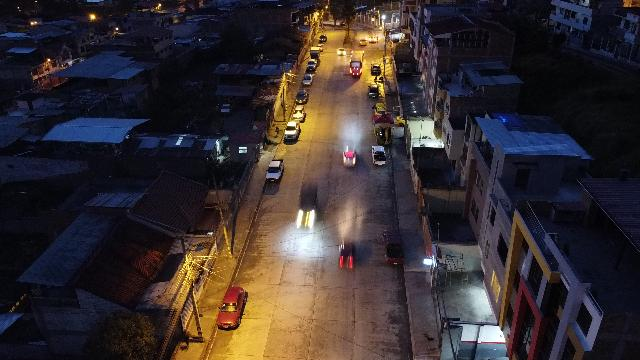Vehiculo: (216, 286, 248, 330), (383, 229, 405, 264), (266, 160, 284, 182), (284, 120, 300, 140), (372, 145, 386, 165), (344, 146, 356, 168), (292, 106, 306, 121), (350, 61, 362, 77), (296, 89, 308, 104), (368, 85, 379, 97), (303, 74, 313, 86), (221, 103, 231, 114), (307, 60, 317, 70), (371, 64, 381, 74), (396, 116, 404, 126), (368, 36, 378, 42), (359, 38, 366, 46), (337, 48, 345, 54), (319, 36, 326, 42), (318, 45, 322, 51), (340, 22, 346, 26)
